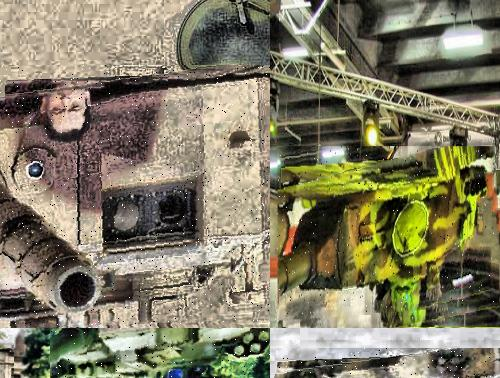tanks: (1, 67, 271, 327), (278, 148, 496, 315), (51, 329, 271, 378), (276, 350, 500, 378), (264, 67, 266, 68)
